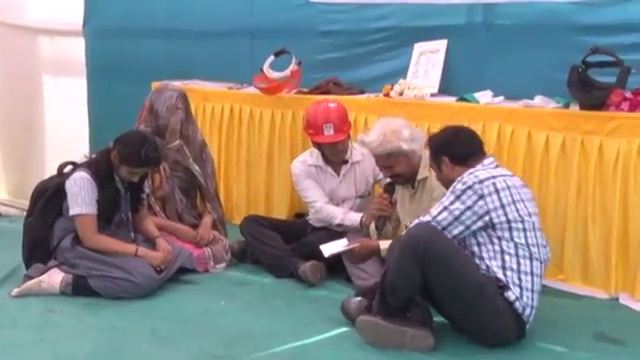helmet: (300, 104, 353, 150)
helmet_off: (419, 126, 495, 191), (366, 119, 427, 193), (99, 130, 162, 187), (142, 87, 195, 150)
helmet_on: (301, 102, 357, 170)
person: (329, 118, 560, 345), (11, 129, 190, 302), (244, 92, 377, 289), (127, 78, 226, 272), (339, 117, 446, 285)
